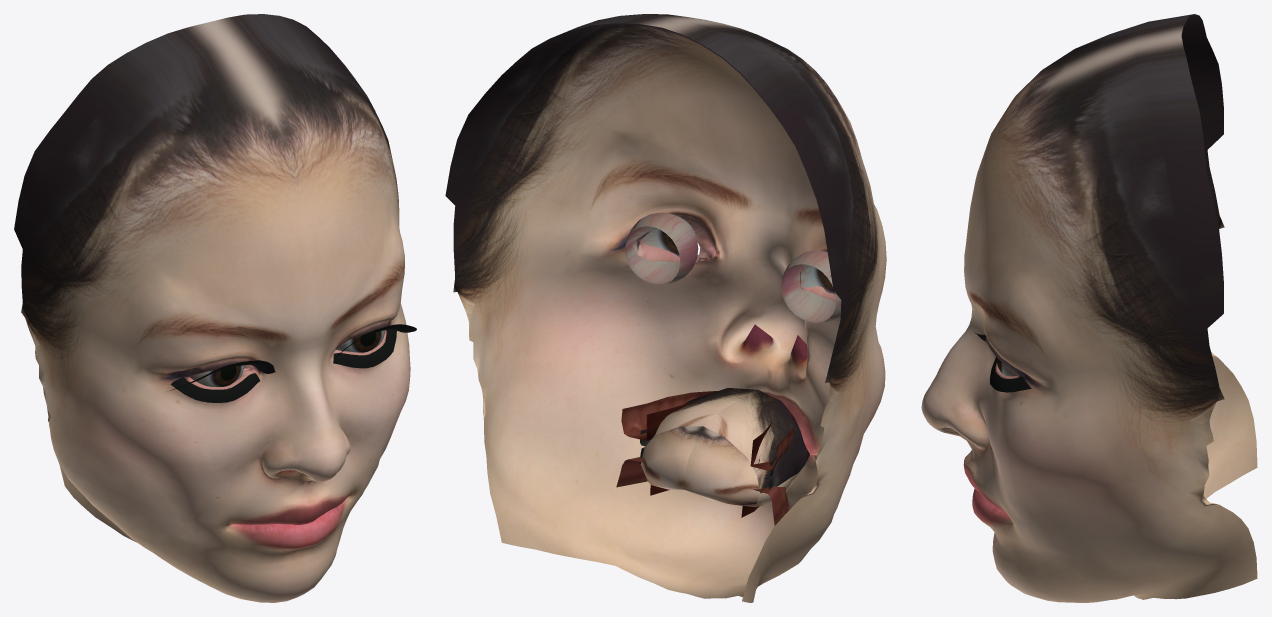
3 renders of one model, left to right at view 1: azimuth 30°, elevation 25°; view 2: azimuth 150°, elevation 25°; view 3: azimuth 270°, elevation 25°, orthographic. The views are drawn at different scales.
Parts seen in each view (by area): view 1: 表情; view 2: 表情; view 3: 表情.
Part boxes in pixels (x1,y1,x2,y2): 表情: [14, 14, 416, 602]; 表情: [445, 14, 886, 602]; 表情: [921, 14, 1257, 602].
Bounding box in the file's own units: 14.86 × 21.41 × 11.77.
4 materials, 4 textured.
